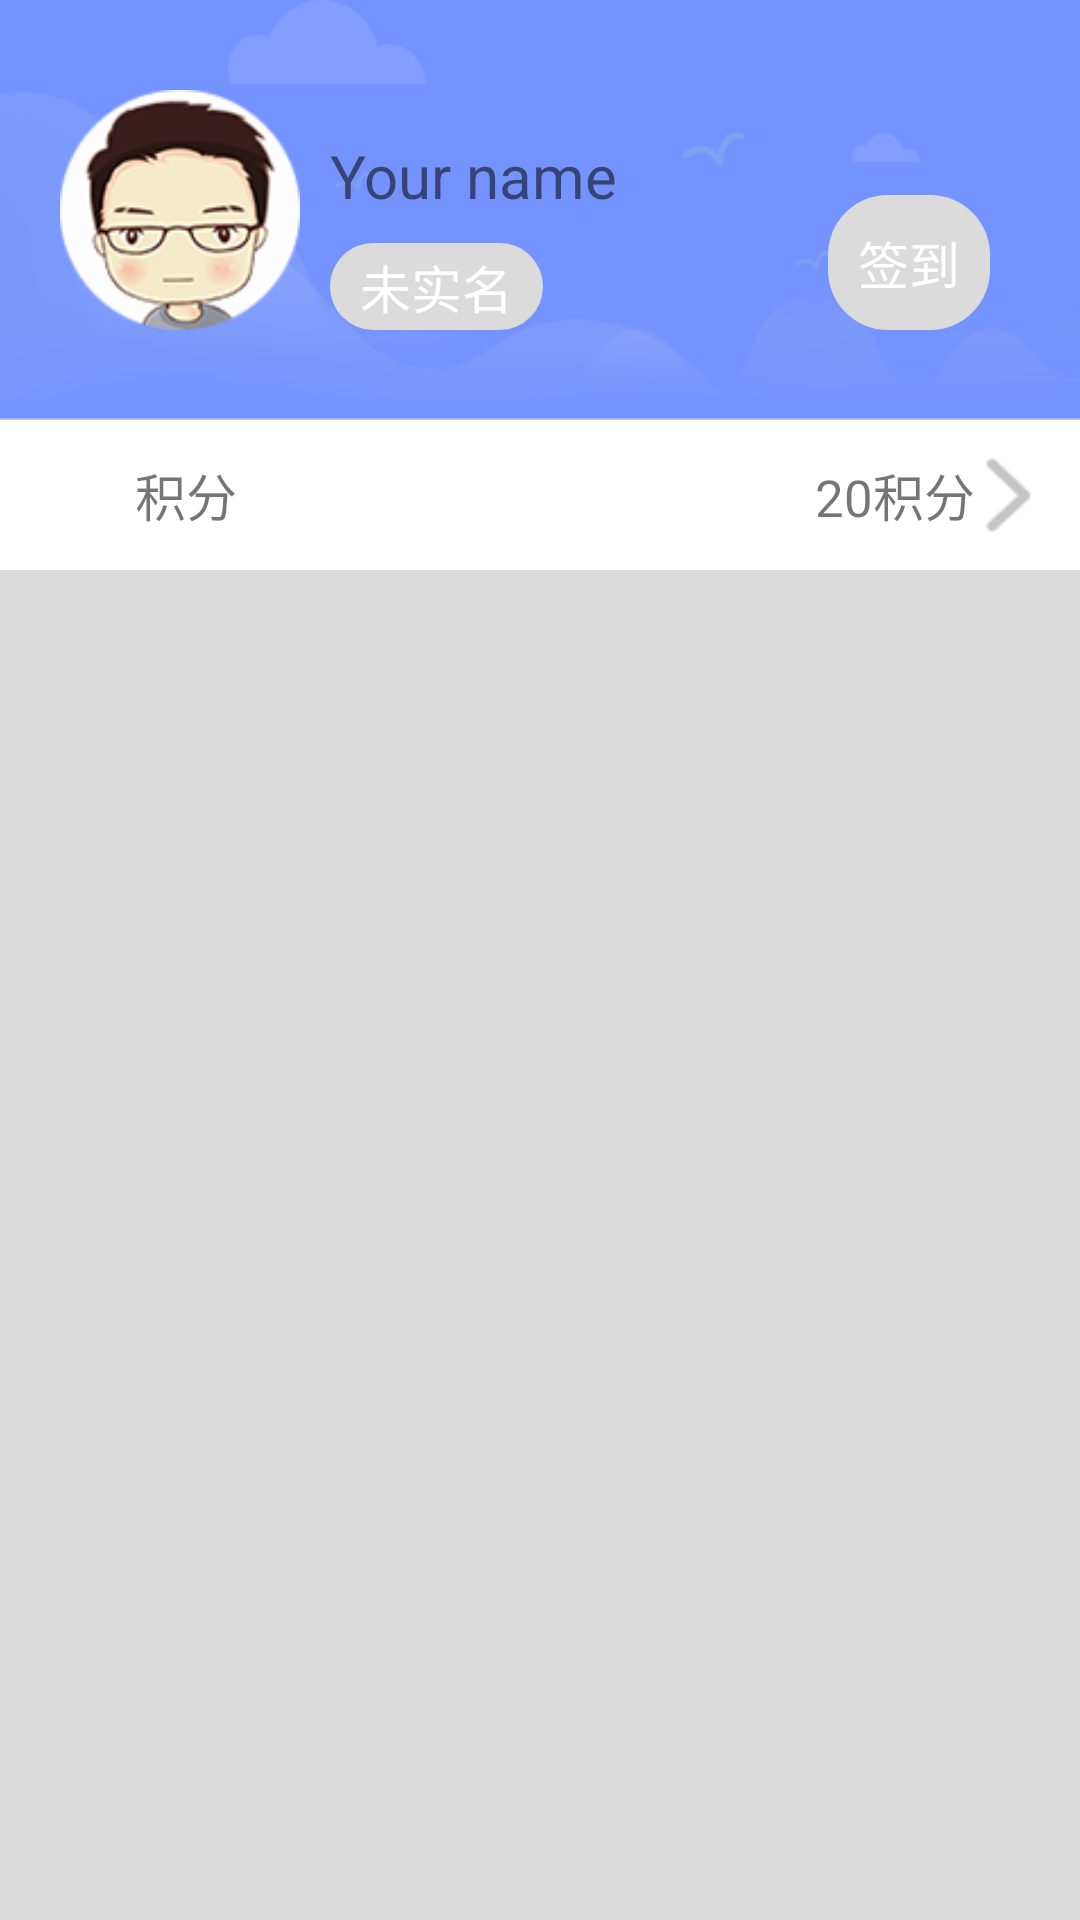

Icon click points for this 1080*1920 phone screenshot, format [x,y]:
back right: [1008,495]
head pic: [180,210]
